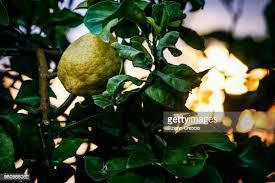lemon: (58, 30, 124, 96)
